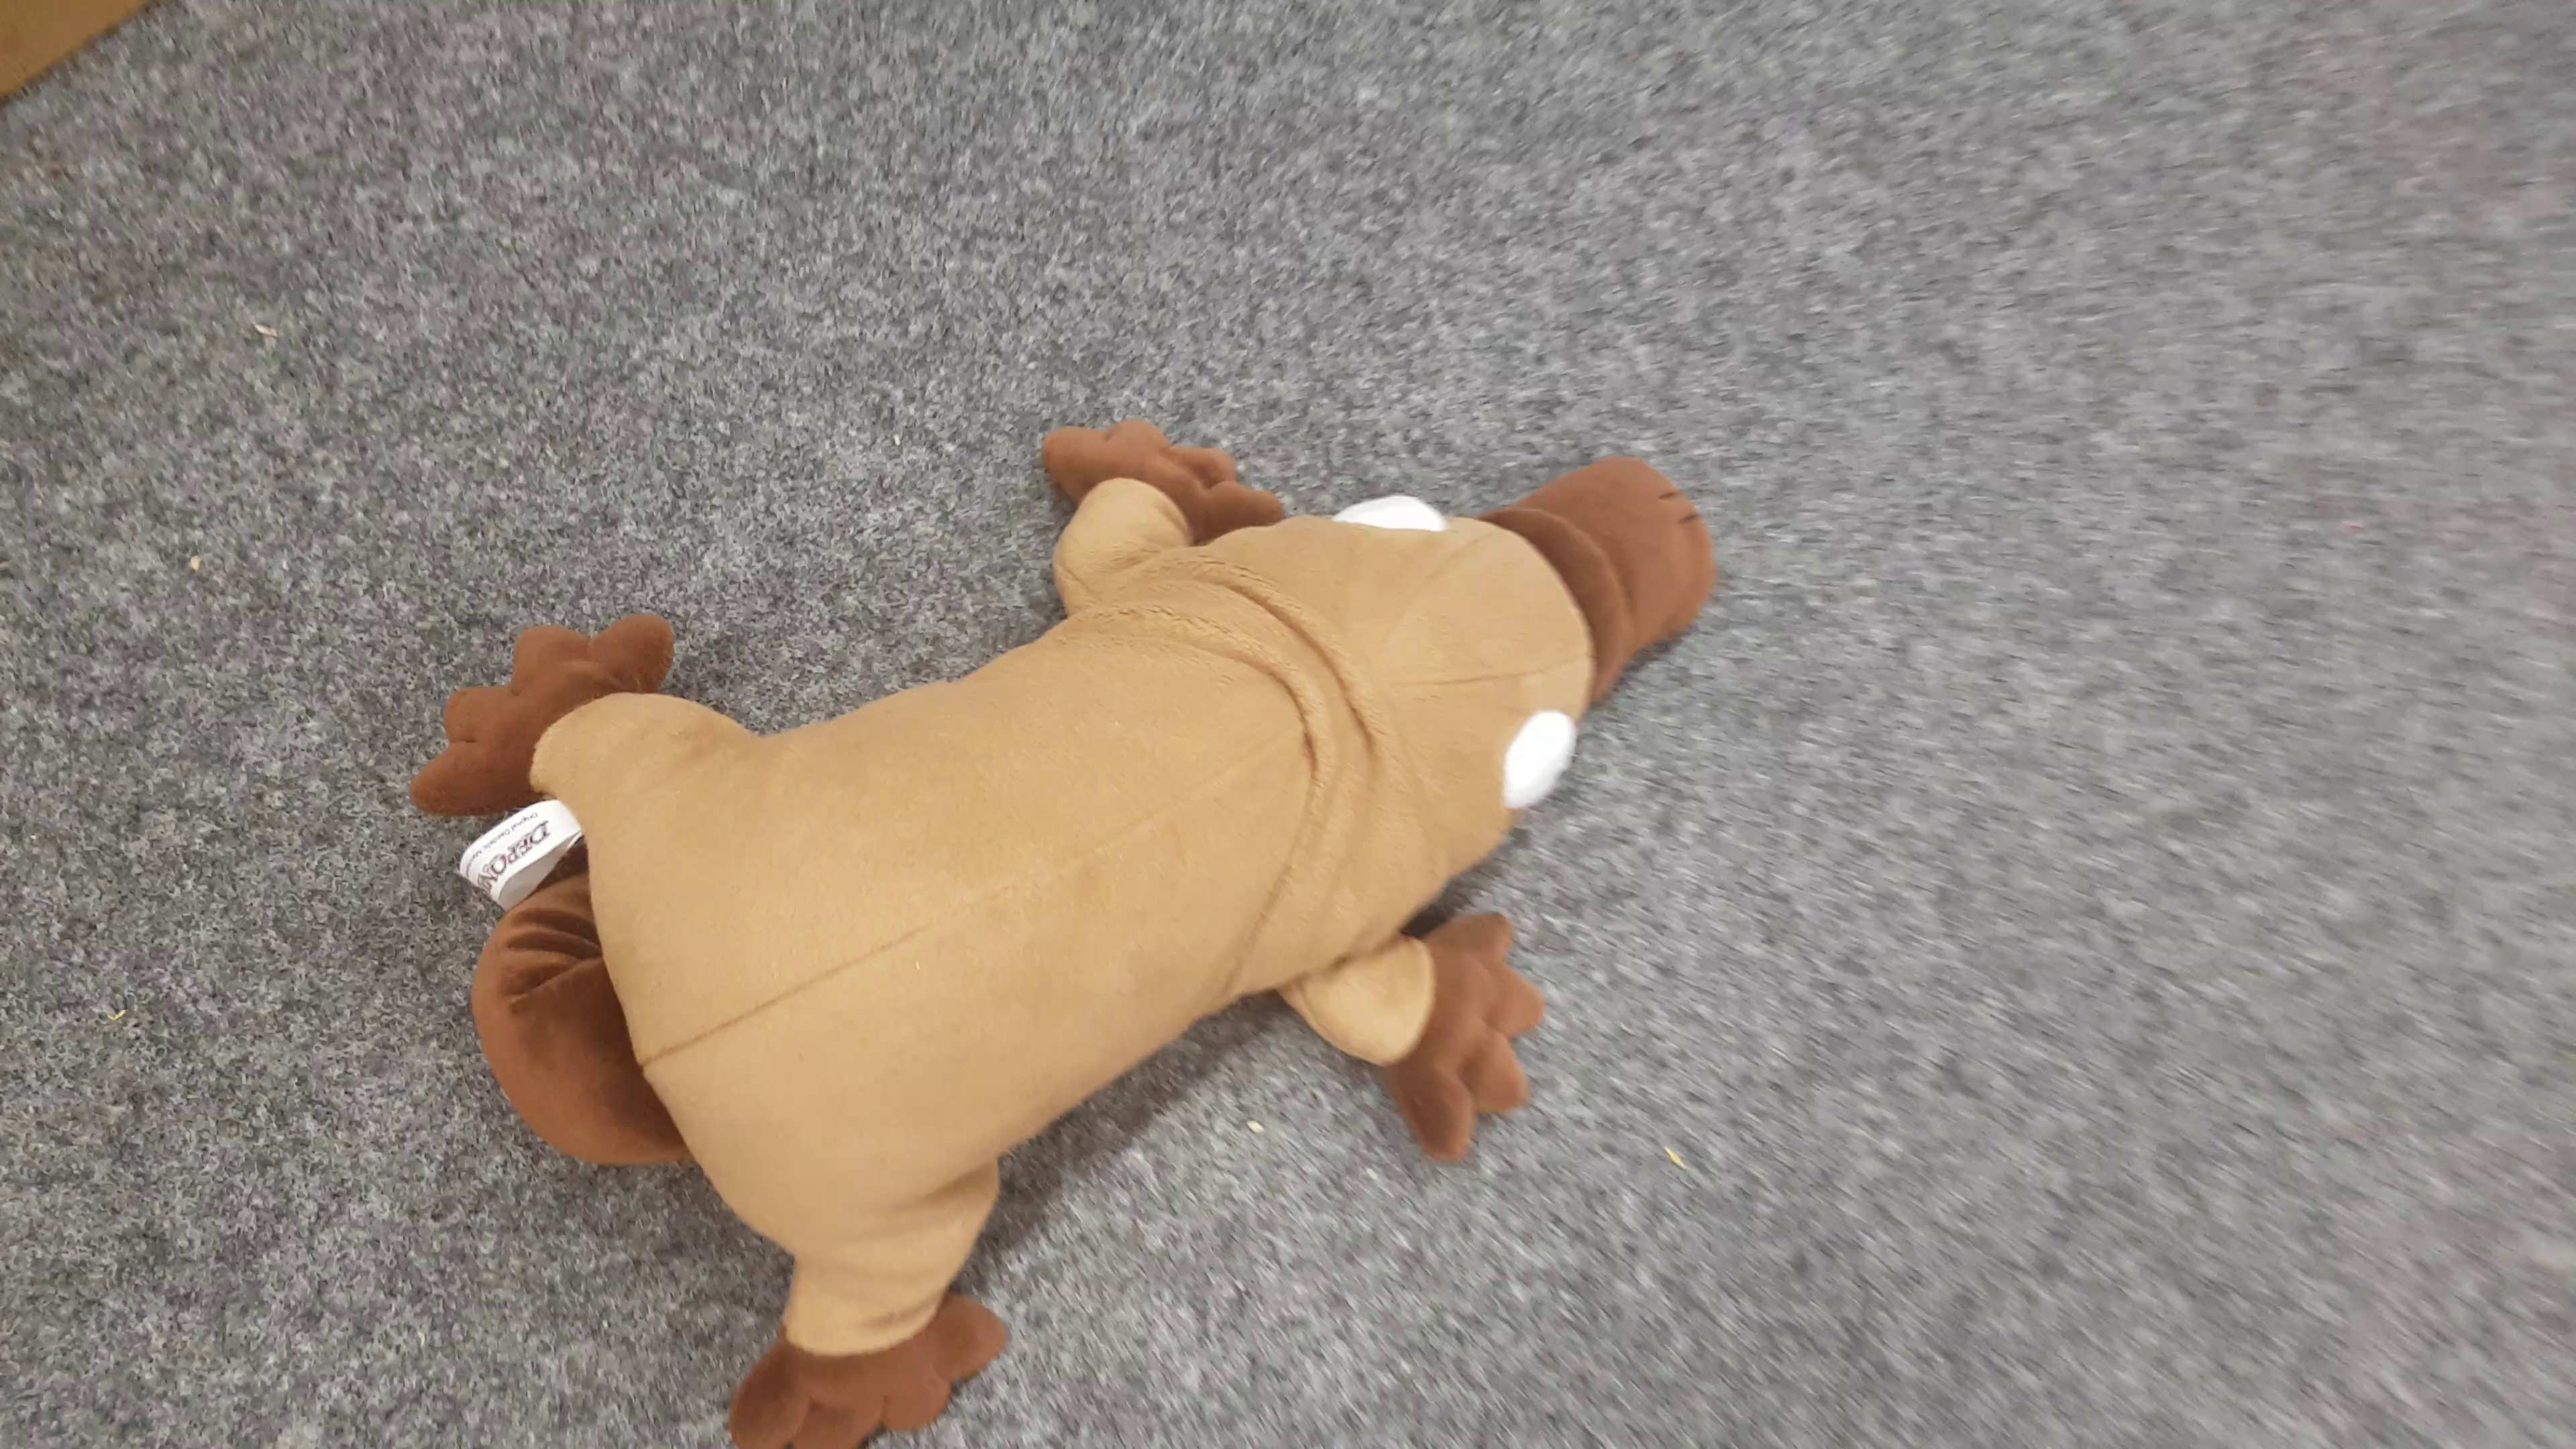grasp: (416, 414, 1729, 1449)
